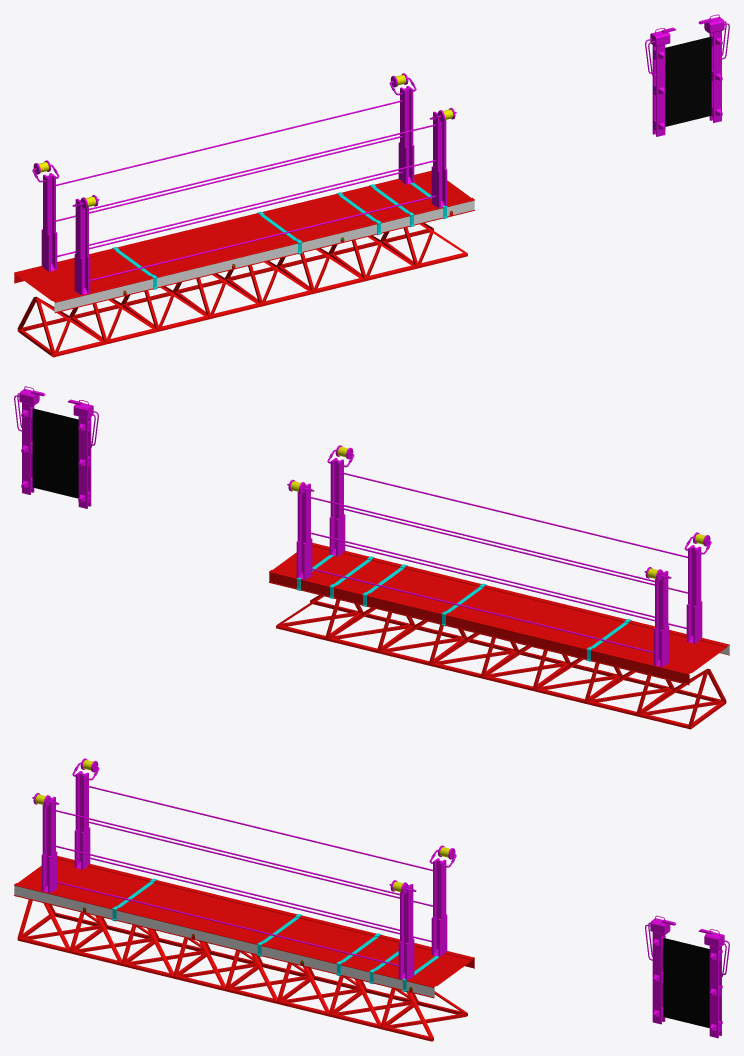
The model's file is Foreground01_high.fbx.
3 views of the same model, one above another, from view 1: azimuth 30°, elevation 25°; view 2: azimuth 150°, elevation 25°; view 3: azimuth 330°, elevation 25° (orthographic).
Parts seen in each view (by area): view 1: Foreground01_high; view 2: Foreground01_high; view 3: Foreground01_high.
Boxes of the visible parts, box(x1,y1,x2,y2) form: Foreground01_high: box(14, 14, 729, 357); Foreground01_high: box(14, 386, 729, 729); Foreground01_high: box(14, 758, 729, 1041).
Bounding box in the file's own units: 4709 × 1060 × 625.
